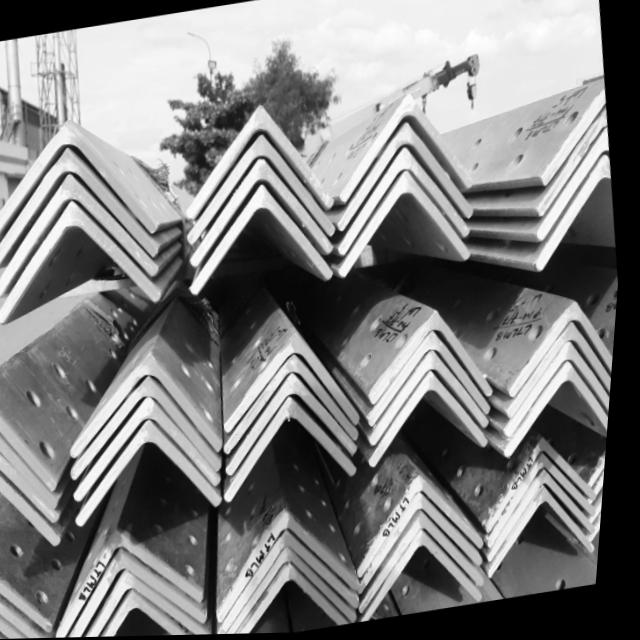metal-angles: (1, 201, 165, 324), (0, 175, 163, 297), (0, 148, 164, 269), (0, 119, 162, 237), (188, 106, 336, 221), (192, 135, 340, 245), (66, 528, 213, 638), (194, 185, 337, 297), (77, 355, 231, 459), (227, 511, 368, 624), (79, 378, 229, 482), (84, 421, 230, 527), (195, 160, 336, 268), (82, 398, 229, 501), (342, 94, 477, 205), (228, 532, 369, 635), (343, 125, 477, 233), (342, 149, 474, 257), (343, 172, 476, 279), (231, 399, 365, 505), (234, 374, 365, 478), (230, 334, 366, 434), (231, 356, 366, 454), (367, 477, 493, 579), (367, 494, 491, 596), (369, 514, 494, 615), (78, 551, 217, 638), (376, 313, 499, 407), (236, 547, 367, 635), (376, 373, 496, 469), (376, 333, 497, 428), (377, 352, 496, 448), (371, 531, 492, 623), (494, 439, 604, 535), (496, 455, 604, 550), (511, 343, 616, 440), (514, 324, 617, 422), (511, 364, 615, 461), (515, 304, 618, 400), (497, 488, 603, 581), (496, 472, 603, 564), (96, 569, 220, 638), (246, 564, 362, 635), (112, 590, 198, 637)
